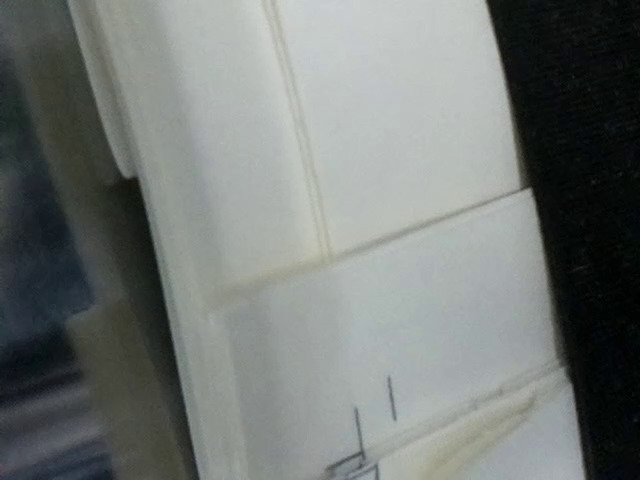misaligned: (288, 416, 384, 480)
